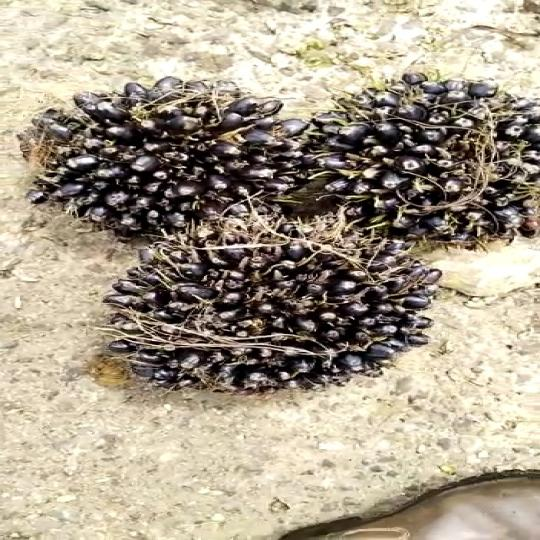mentah: (84, 229, 442, 395), (262, 73, 540, 243), (33, 70, 298, 238)
